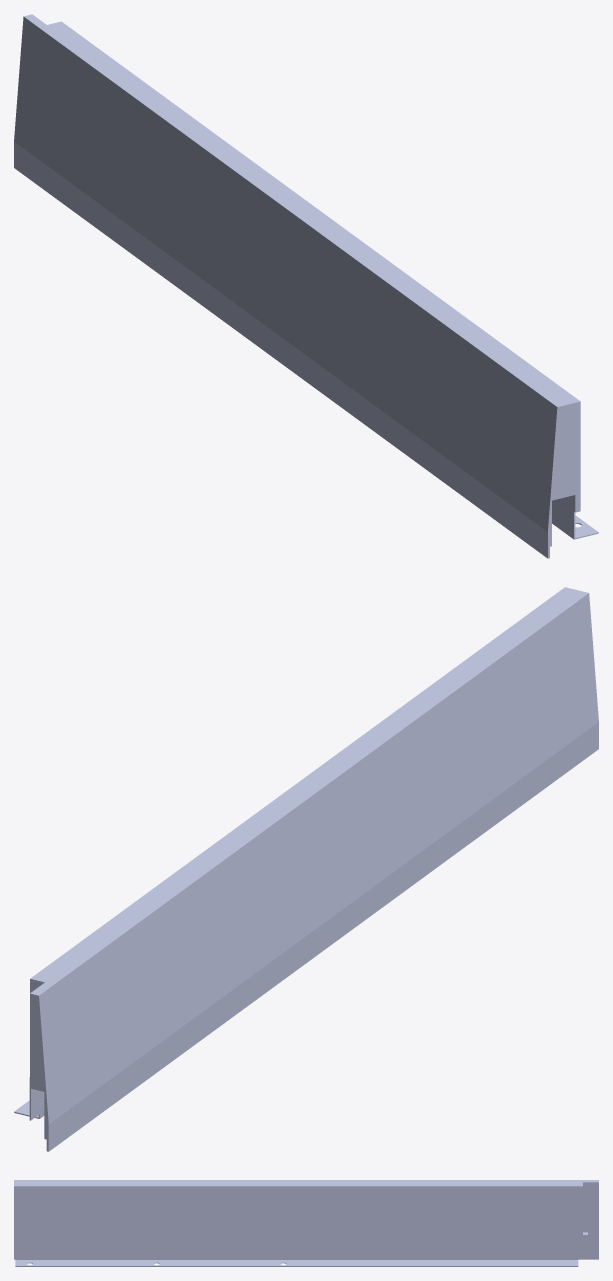
Rendered from mv-kava-M600-p.glb.
The picture shows the model from 3 angles, top to bottom: view 1: azimuth 30°, elevation 25°; view 2: azimuth 150°, elevation 25°; view 3: azimuth 270°, elevation 25°; orthographic projection. The views are drawn at different scales.
Parts seen in each view (by area): view 1: 42088597; view 2: 42088597; view 3: 42088597.
Boxes of the visible parts, x1=… form: 42088597: x1=14, y1=14, x2=598, y2=558; 42088597: x1=14, y1=587, x2=598, y2=1151; 42088597: x1=14, y1=1180, x2=598, y2=1266.
Bounding box in the file's own units: 0.0335 × 0.091 × 0.5902.
